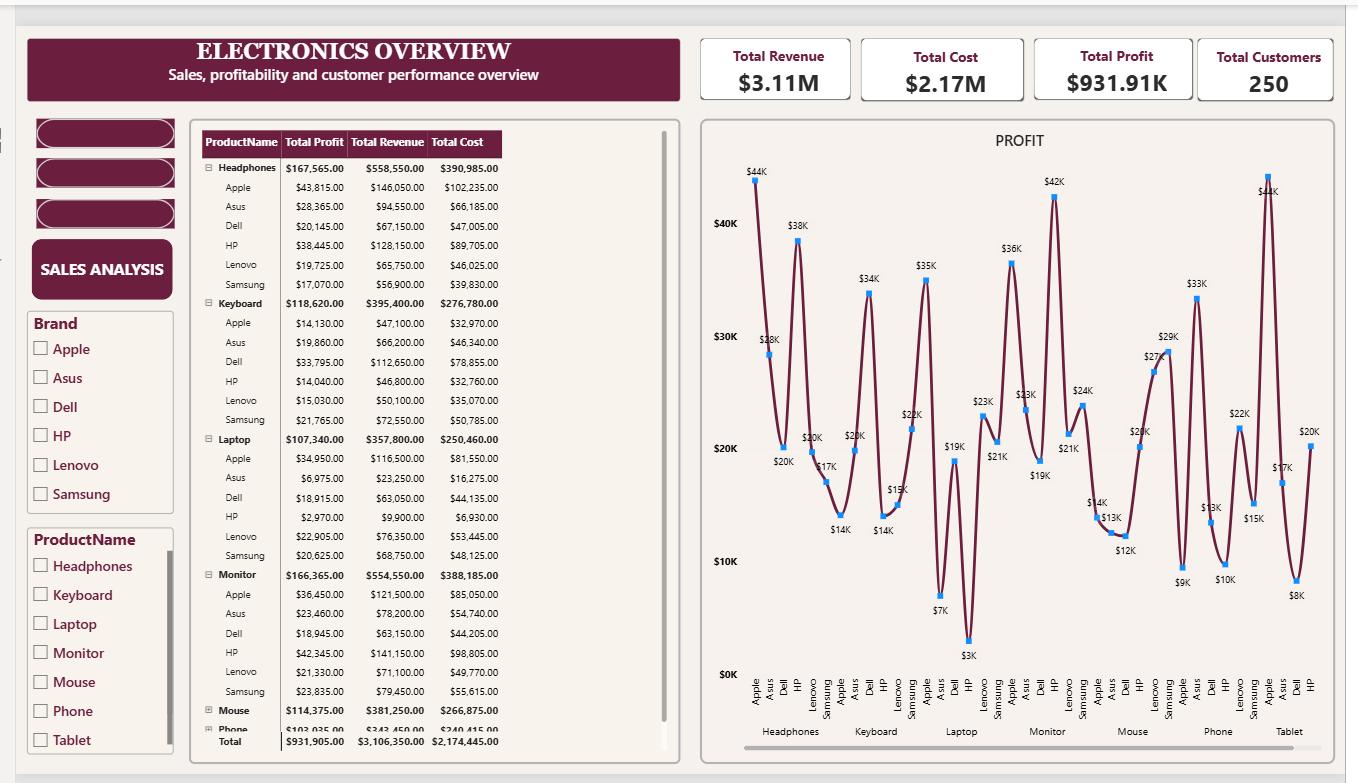

The dashboard page shown, as its layout file describes it:
{"tool":"powerbi","page":{"name":"BUSINESS OVERVIEW","canvas":[1920,1080],"ordinal":0},"visuals":[{"type":"cardVisual","fields":{"Data":["Sales.Total Revenue"]},"box":[869.6,8.7,204.3,97.8],"z":0,"group":"g1"},{"type":"slicer","fields":{"Values":["Products.Brand"]},"box":[26.1,787,212.1,293.6],"z":2000},{"type":"slicer","fields":{"Values":["Products.ProductName"]},"box":[28.3,282.6,202.2,330.4],"z":3000},{"type":"pivotTable","title":"FINANCIAL PERFORMANCE ANALYSIS","fields":{"Values":["Sales.Total Profit","Sales.Total Revenue","Sales.Total Cost"],"Rows":["DateTable.Month Name","Customers.Region"]},"box":[271.2,134.6,752.4,670.9],"z":4000},{"type":"lineChart","title":"PRODUCT PERFORMANCE ANALYSIS","fields":{"Category":["Products.ProductName"],"Y":["Sales.Total Profit"]},"box":[1052.2,134.6,852.4,670.9],"z":5000},{"type":"cardVisual","fields":{"Data":["Sales.Total Profit"]},"box":[1087.2,8.5,206.4,97.9],"z":8000,"group":"g2"},{"type":"cardVisual","fields":{"Data":["Sales.Total Cost"]},"box":[1302.2,8.7,195.7,97.8],"z":9000,"group":"g3"},{"type":"cardVisual","fields":{"Data":["Sales.Total Customers"]},"box":[1702.1,8.5,195.7,97.9],"z":10000,"group":"g5"},{"type":"cardVisual","fields":{"Data":["Sales.Total Sales"]},"box":[1508.5,8.5,178.7,93.6],"z":11000,"group":"g4"},{"type":"textbox","box":[25.5,4.3,812.8,102.1],"z":14000},{"type":"slicer","fields":{"Values":["Products.Category"]},"box":[26.1,634.8,204.3,134.8],"z":14001},{"type":"group","id":"g1","title":"Group 1","box":[864.1,8.7,209.8,97.8],"z":14002},{"type":"group","id":"g2","title":"Group 2","box":[1087.2,8.5,206.4,97.9],"z":14003},{"type":"group","id":"g3","title":"Group 3","box":[1302.2,8.7,195.7,97.8],"z":14004},{"type":"group","id":"g4","title":"Group 4","box":[1508.5,8.5,178.7,93.6],"z":14005},{"type":"group","id":"g5","title":"Group 5","box":[1702.1,8.5,195.7,97.9],"z":14006},{"type":"textbox","title":"KEY INSIGHTS","box":[271.7,823.9,1626.1,217.4],"z":14007},{"type":"actionButton","box":[30.4,115.2,199.8,36.7],"z":14008},{"type":"actionButton","box":[26.1,169.6,199.8,36.7],"z":14009},{"type":"actionButton","box":[26.1,228.3,199.8,36.7],"z":14010},{"type":"image","box":[1711.2,44.7,43.2,57.4],"z":18000,"group":"g5"},{"type":"image","box":[864.1,49.8,66,46.8],"z":19000,"group":"g1"},{"type":"image","box":[1515.4,51.1,56.8,41.6],"z":20000,"group":"g4"},{"type":"image","box":[1087.4,41.5,58.7,59.6],"z":20001,"group":"g2"},{"type":"image","box":[1308.5,52.6,58.9,45.9],"z":20002,"group":"g3"}]}

Visuals, with their boxes in screenshot pixels (x1, y1, x2, y2), scaled from the page's 1920x1080 canvas onto the 1358x783 screenshot:
cardVisual - Sales.Total Revenue: 615/6/760/77
slicer - Products.Brand: 18/571/168/782
slicer - Products.ProductName: 20/205/163/444
"FINANCIAL PERFORMANCE ANALYSIS" pivotTable: 192/98/724/584
"PRODUCT PERFORMANCE ANALYSIS" lineChart: 744/98/1347/584
cardVisual - Sales.Total Profit: 769/6/915/77
cardVisual - Sales.Total Cost: 921/6/1059/77
cardVisual - Sales.Total Customers: 1204/6/1342/77
cardVisual - Sales.Total Sales: 1067/6/1193/74
textbox: 18/3/593/77
slicer - Products.Category: 18/460/163/558
"Group 1" group: 611/6/760/77
"Group 2" group: 769/6/915/77
"Group 3" group: 921/6/1059/77
"Group 4" group: 1067/6/1193/74
"Group 5" group: 1204/6/1342/77
"KEY INSIGHTS" textbox: 192/597/1342/755
actionButton: 22/84/163/110
actionButton: 18/123/160/150
actionButton: 18/166/160/192
image: 1210/32/1241/74
image: 611/36/658/70
image: 1072/37/1112/67
image: 769/30/811/73
image: 925/38/967/71
